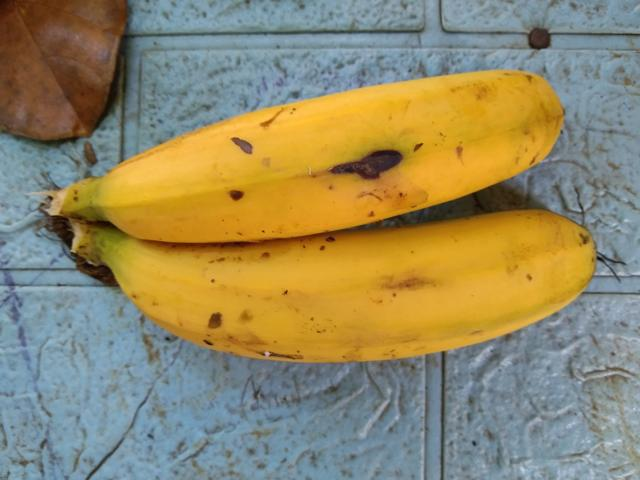freshripe: (114, 222, 602, 371)
ripe: (40, 48, 563, 236)
